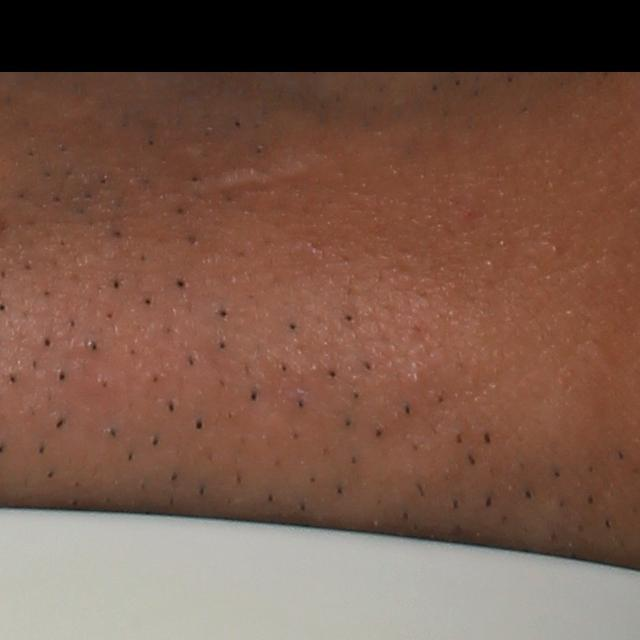hypertrophic_scar: (201, 156, 314, 203)
